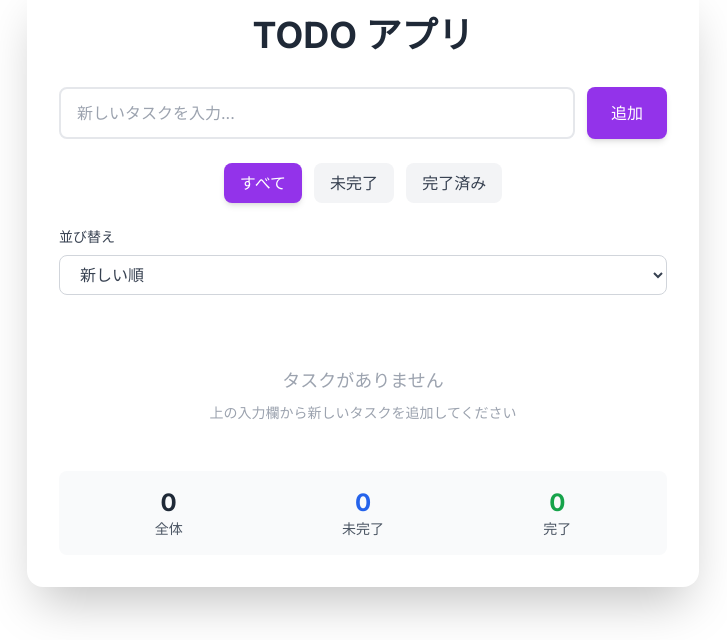
Scenario: TodoApp › should toggle todo completion status
This screenshot has width=727, height=640.
Step 1. Type "Completable task" into the field with placeholder "新しいタスクを入力..." → point(317, 113), box [59,87,575,139]
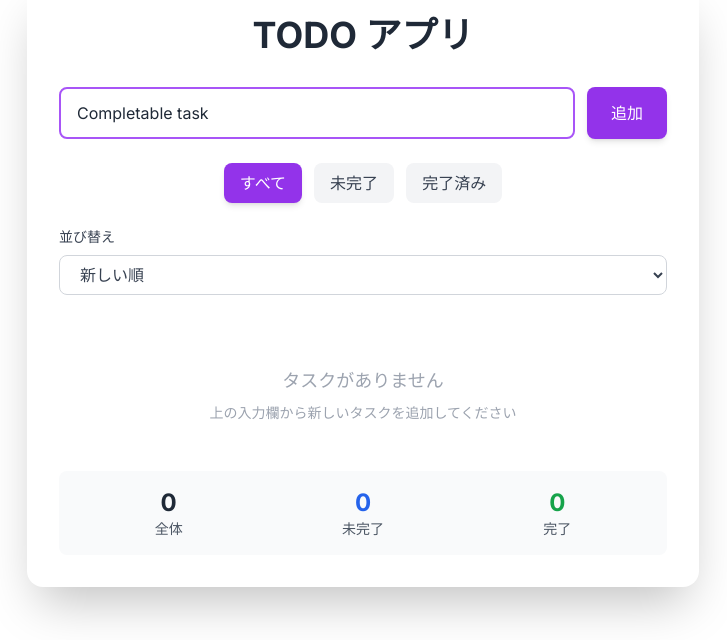
Step 2. Click the button "追加" → point(627, 113), box [587,87,667,139]
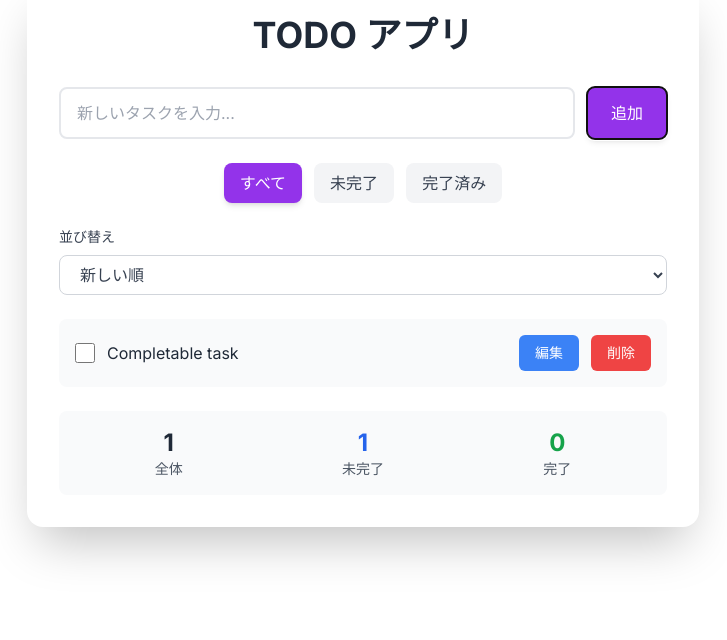
Check: the text "Completable task" is shown, box [107,343,239,363]
Step 3. Click the checkbox → point(85, 353), box [75,343,95,363]
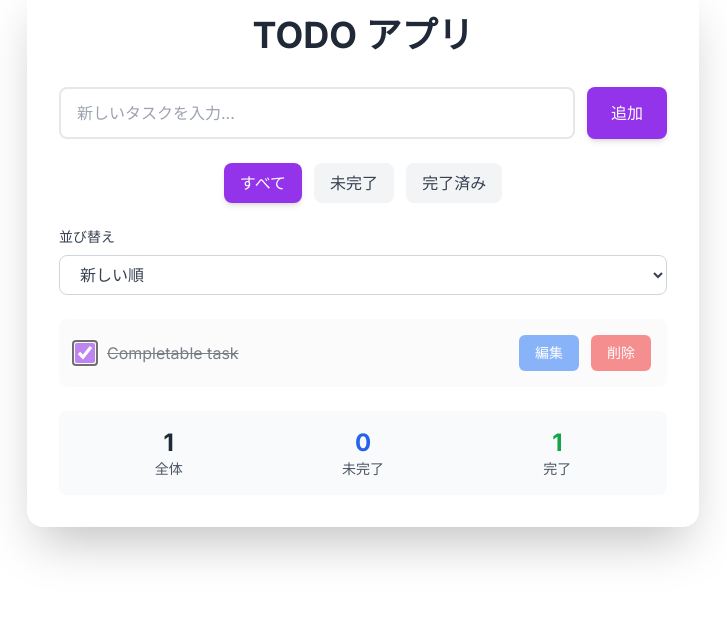
Check: the checkbox is checked, box [75,343,95,363]
Check: the 2nd text "1" is shown, box [552,428,562,457]
